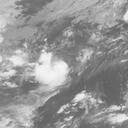cyclone: (36, 56, 70, 88)
